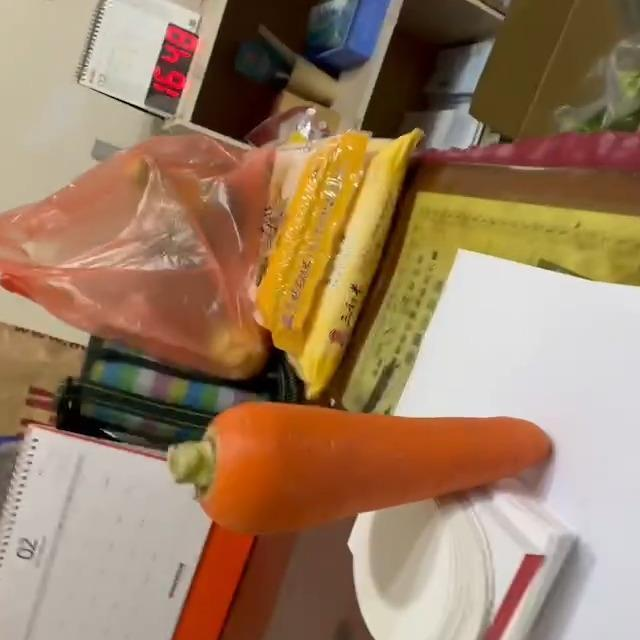carrot: (170, 399, 559, 538)
